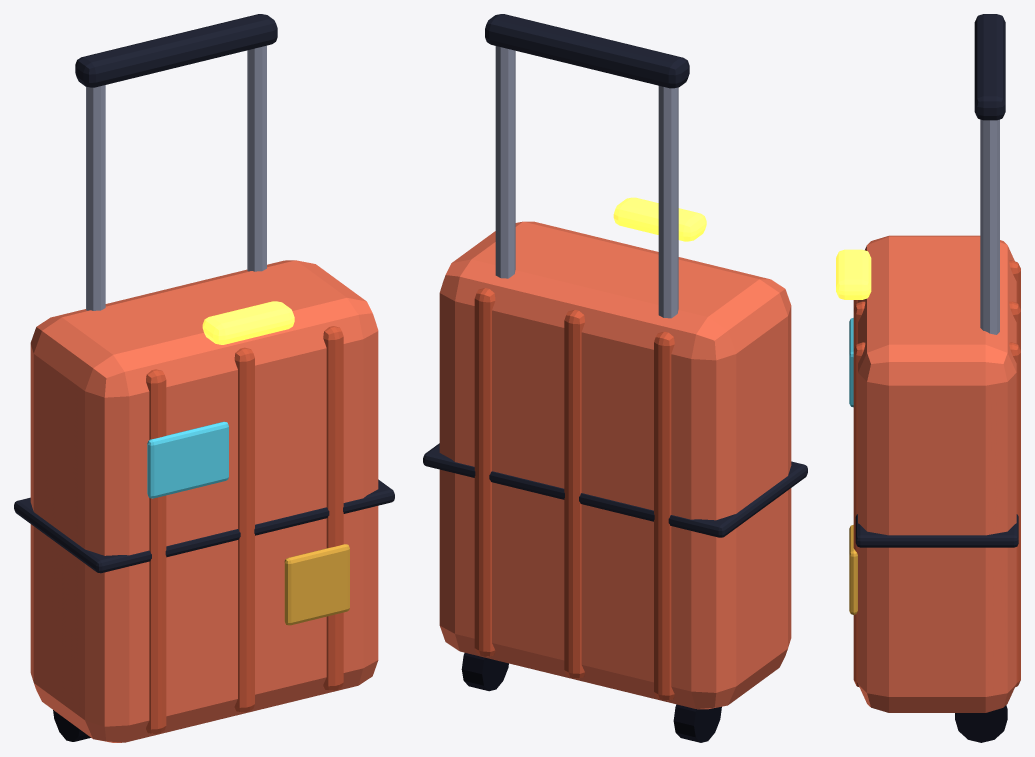
Rendered from suitcase.glb.
3 renders of one model, left to right at view 1: azimuth 30°, elevation 25°; view 2: azimuth 150°, elevation 25°; view 3: azimuth 270°, elevation 25°, orthographic. The views are drawn at different scales.
Visible parts, largest first — view 1: shell, handle, rib0, rib-1, rib1, sticker1, zip, sticker2, pole-1, pole1, grip; view 2: shell, handle, rib1, rib0, rib-1, pole-1, pole1, zip, grip, wheel-1, wheel1; view 3: shell, pole1, handle, rib1, zip, grip, wheel1, sticker2, rib0, sticker1, rib-1.
Part boxes in pixels (bbox=[...]): shell: bbox=[30, 260, 378, 742]; handle: bbox=[75, 14, 277, 87]; rib0: bbox=[234, 347, 254, 712]; rib-1: bbox=[146, 369, 166, 733]; rib1: bbox=[323, 326, 343, 690]; sticker1: bbox=[147, 421, 228, 498]; zip: bbox=[14, 479, 394, 573]; sticker2: bbox=[284, 544, 349, 625]; pole-1: bbox=[86, 85, 105, 310]; pole1: bbox=[247, 45, 266, 271]; grip: bbox=[202, 301, 294, 344]; shell: bbox=[439, 221, 791, 709]; handle: bbox=[485, 14, 689, 88]; rib1: bbox=[474, 288, 495, 656]; rib0: bbox=[564, 310, 584, 678]; rib-1: bbox=[654, 331, 674, 700]; pole-1: bbox=[658, 86, 678, 318]; pole1: bbox=[495, 46, 515, 278]; zip: bbox=[423, 443, 807, 537]; grip: bbox=[613, 197, 706, 241]; wheel-1: bbox=[673, 704, 721, 742]; wheel1: bbox=[461, 653, 508, 691]; shell: bbox=[858, 235, 1016, 712]; pole1: bbox=[980, 119, 999, 334]; handle: bbox=[974, 14, 1005, 120]; rib1: bbox=[853, 342, 1020, 686]; zip: bbox=[855, 514, 1018, 547]; grip: bbox=[836, 249, 871, 299]; wheel1: bbox=[955, 705, 1007, 742]; sticker2: bbox=[849, 525, 857, 614]; rib0: bbox=[853, 301, 1020, 349]; sticker1: bbox=[849, 318, 853, 407]; rib-1: bbox=[853, 260, 1020, 308].
Size of the model in its own units: 0.74 by 1.59 by 0.42.
